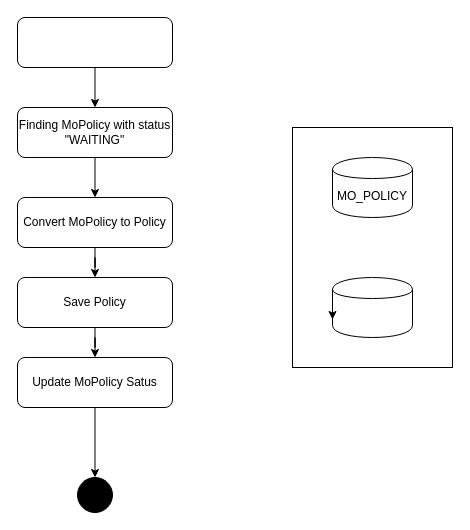
Image size: 470x530. Some labels were removed from this diagram. Each missing label, with the centre of its shape:
POLICY: point 372,307
Start: point 94,42
